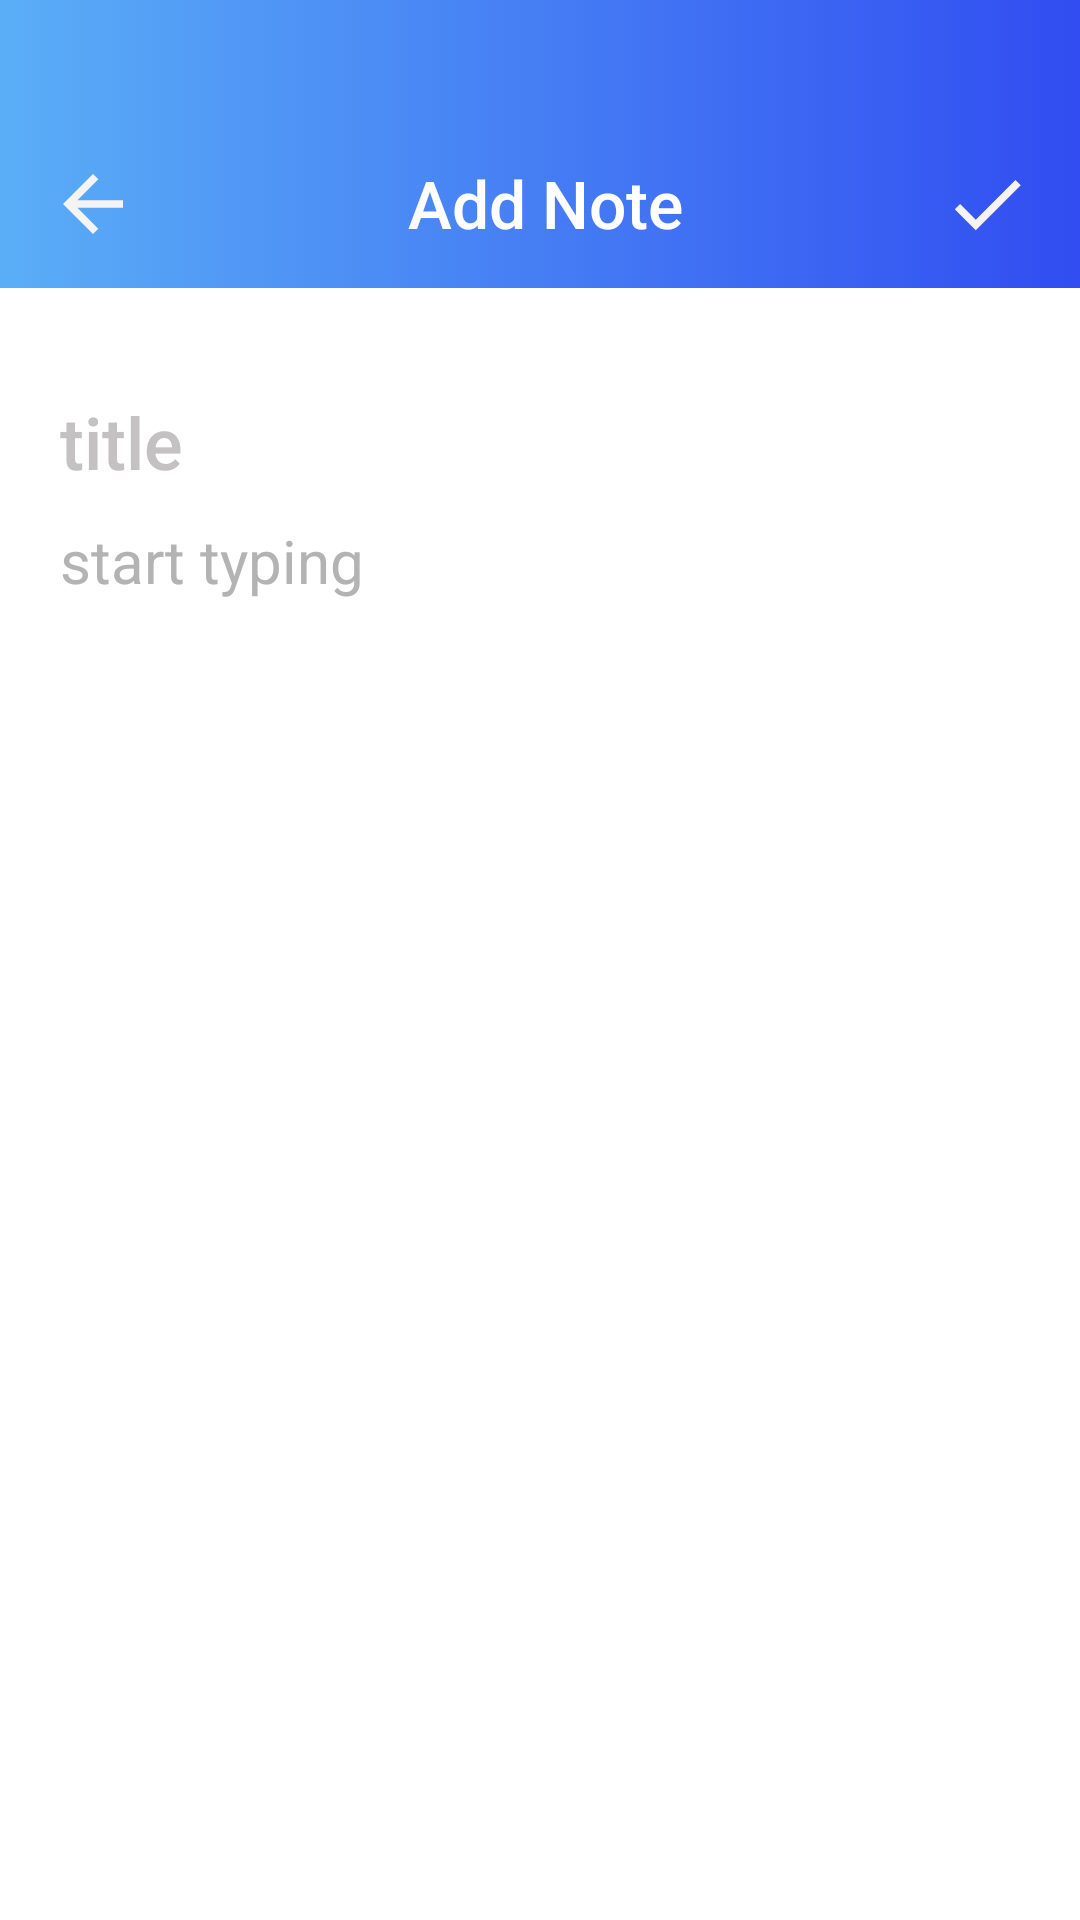

Icon bounding boxes for this 1080 × 1920 phone screenshot, format region(x1, y1, x2, y2):
back: region(63, 174, 123, 234)
check: region(955, 180, 1021, 230)
